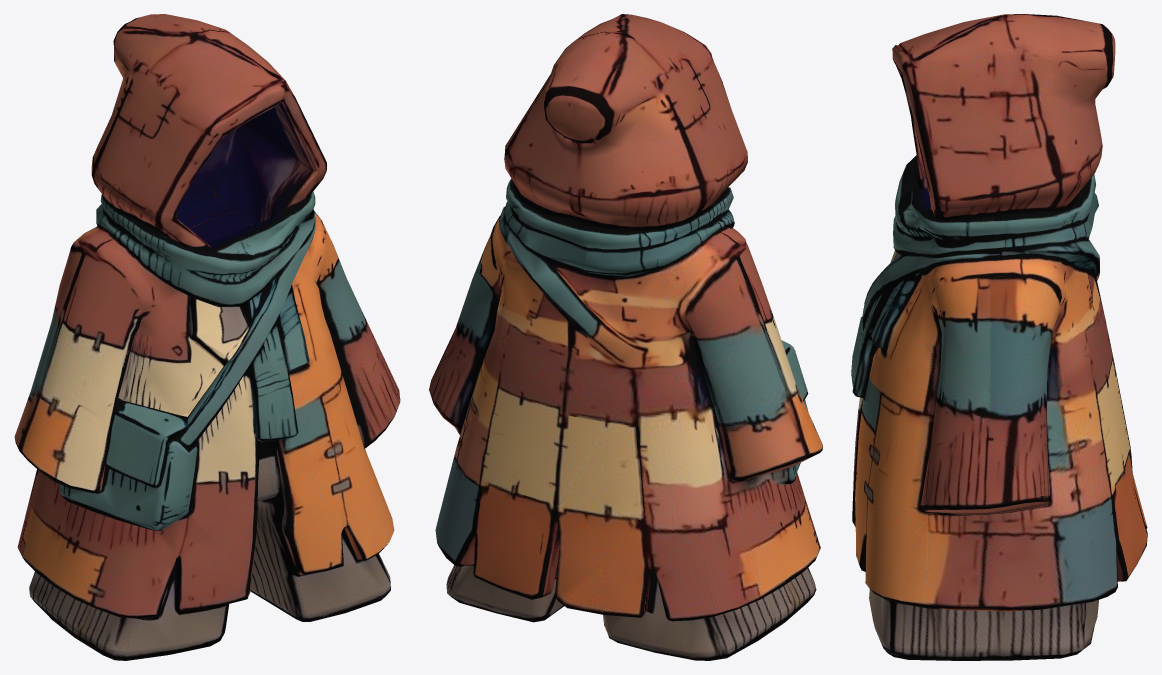
The model's file is agent.glb.
3 views of the same model, side by side, from view 1: azimuth 30°, elevation 25°; view 2: azimuth 150°, elevation 25°; view 3: azimuth 270°, elevation 25° (orthographic). The views are drawn at different scales.
Parts seen in each view (by area): view 1: geometry_0; view 2: geometry_0; view 3: geometry_0.
Boxes of the visible parts, x1,y1,x2,y2 form: geometry_0: [14, 14, 400, 660]; geometry_0: [429, 14, 822, 660]; geometry_0: [851, 14, 1147, 660].
Bounding box in the file's own units: 0.6548 × 0.9526 × 0.4463.
Materials: 1 (1 with a texture image).
